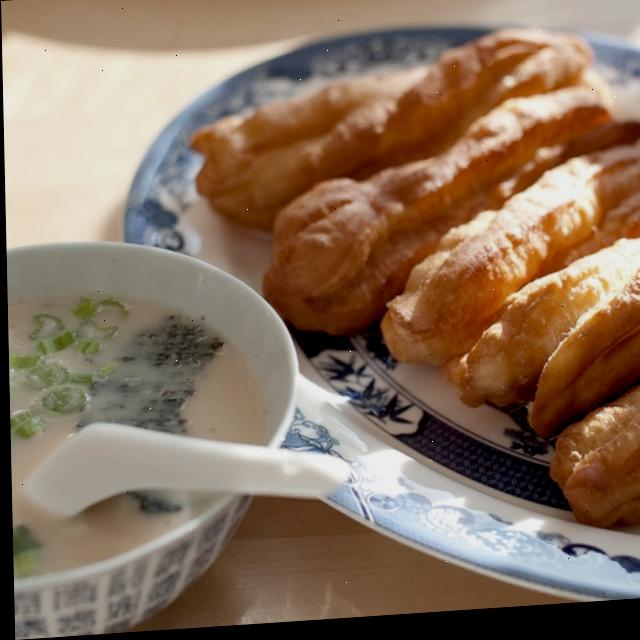炸货点心: (93, 0, 640, 574)
